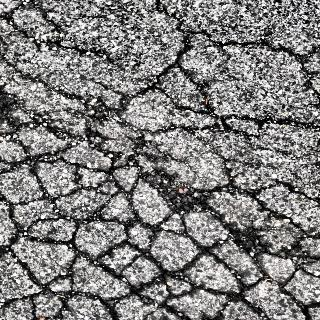alligator-crack: (4, 2, 317, 320)
